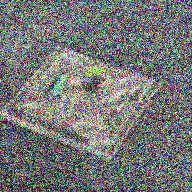러키펜정: (95, 75, 112, 87)
씨엠지세파클러캡슐: (67, 77, 97, 86)
에르도캡슐: (51, 73, 69, 96)
휴티렌정: (84, 67, 107, 77)
